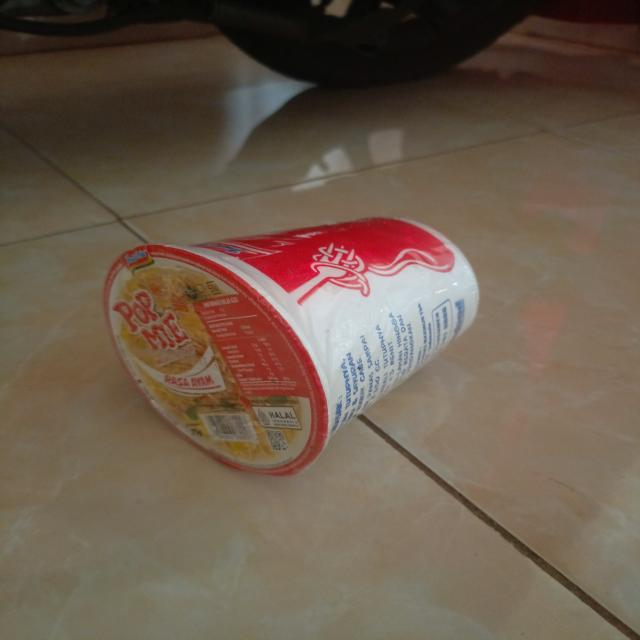popmie-rasa-ayam: (102, 215, 481, 479)
